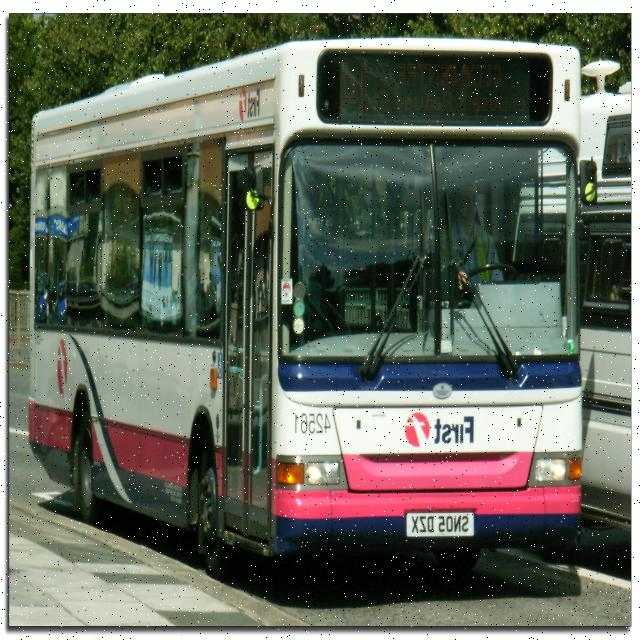Bus: (28, 38, 588, 568), (522, 56, 628, 514)
